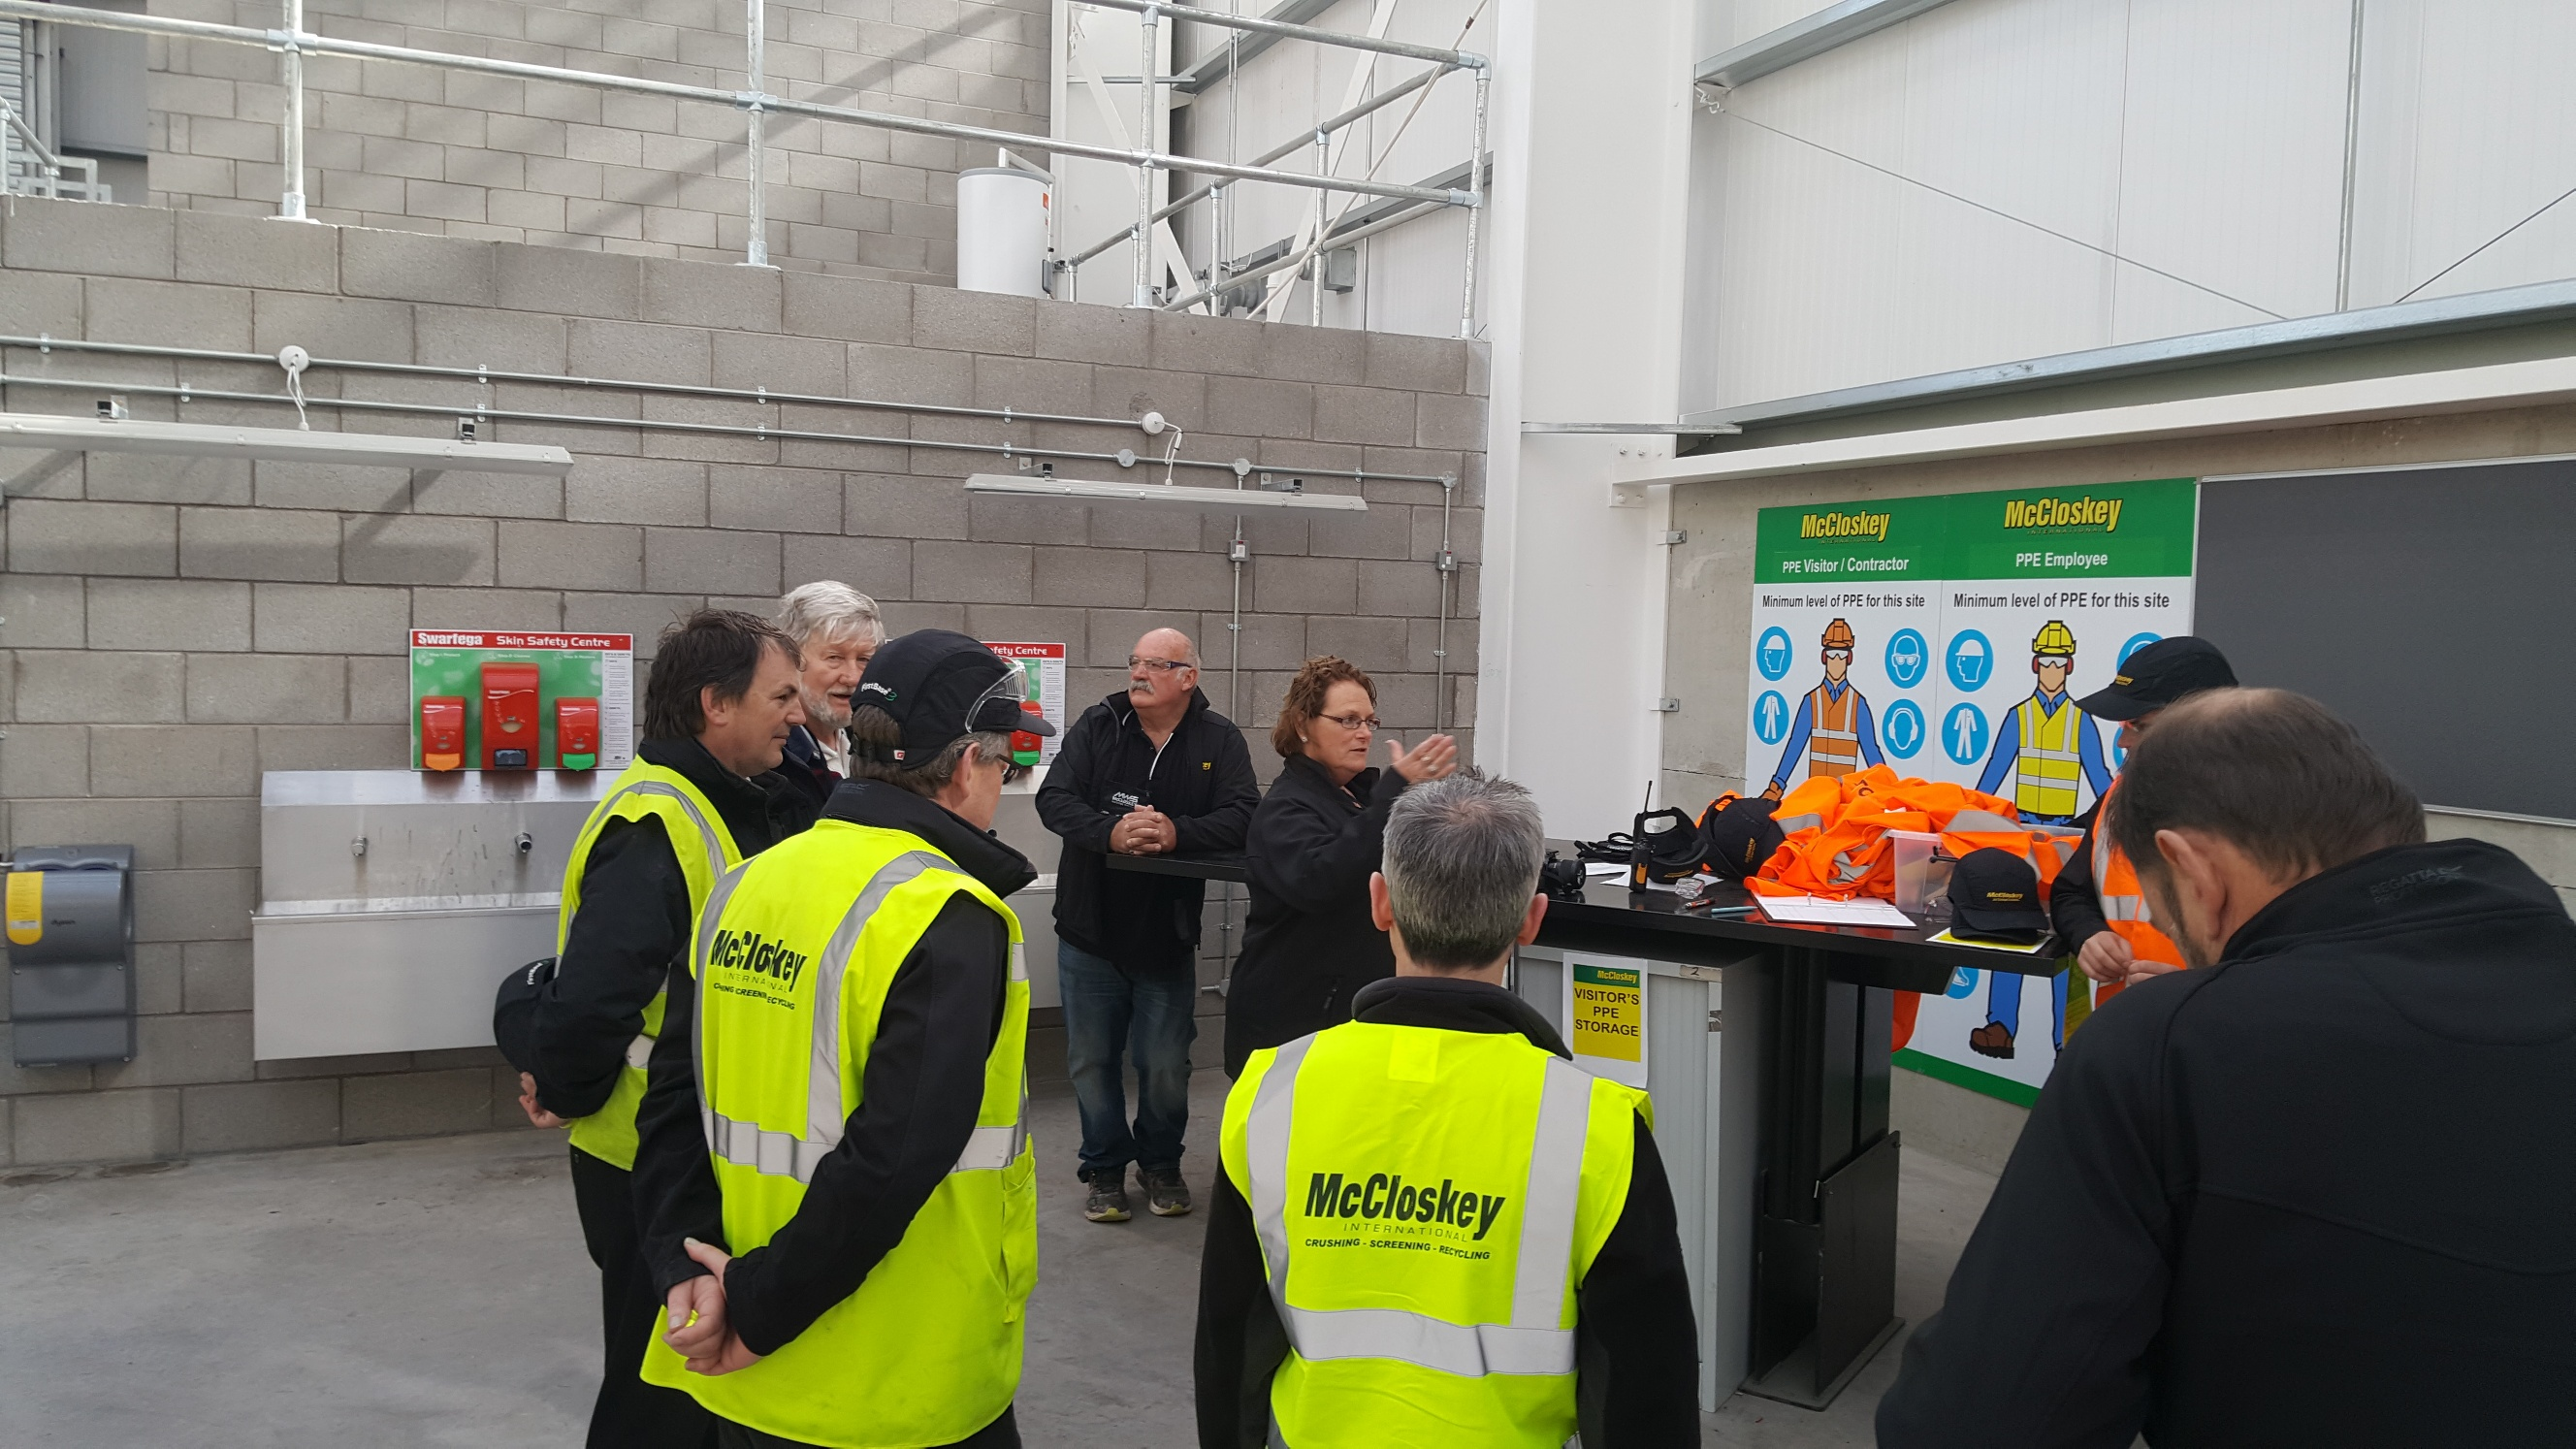High Viz: (701, 826, 1030, 1422), (1254, 1035, 1571, 1435), (563, 752, 690, 1150)
